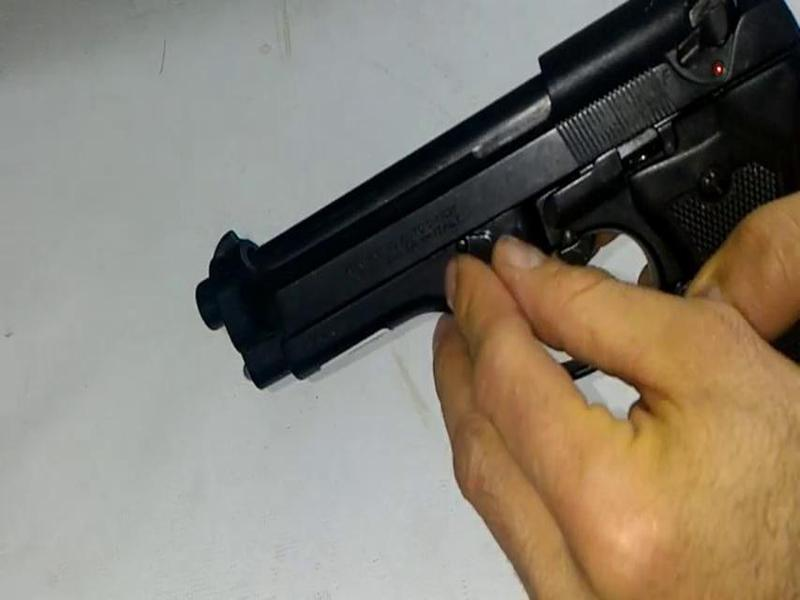Pistola: (159, 2, 800, 382)
